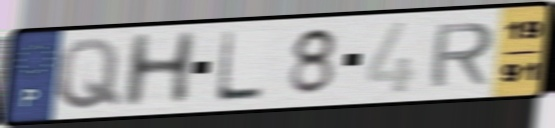4: (362, 19, 419, 96)
8: (285, 26, 338, 98)
H: (118, 29, 202, 112)
L: (211, 29, 267, 104)
Q: (54, 36, 123, 112)
R: (426, 19, 498, 90)
